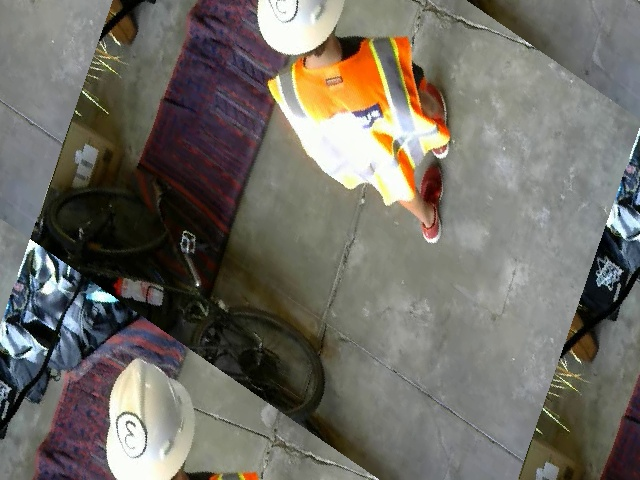three: (258, 0, 303, 29)
